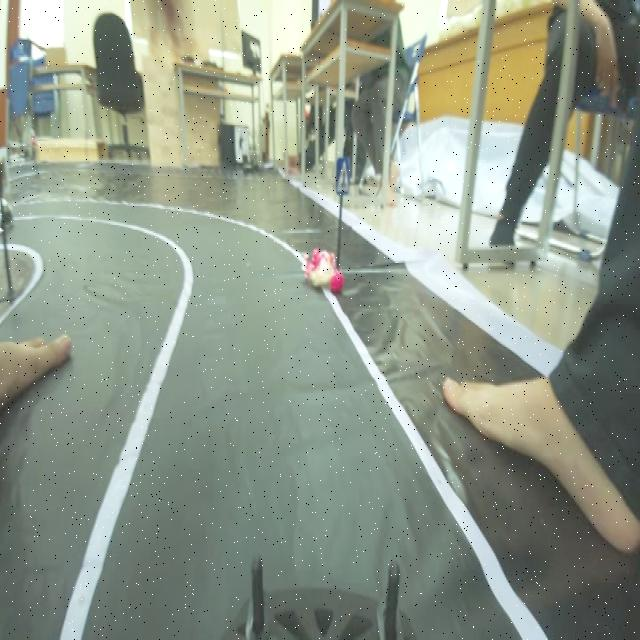crosswalk: (332, 151, 356, 198)
